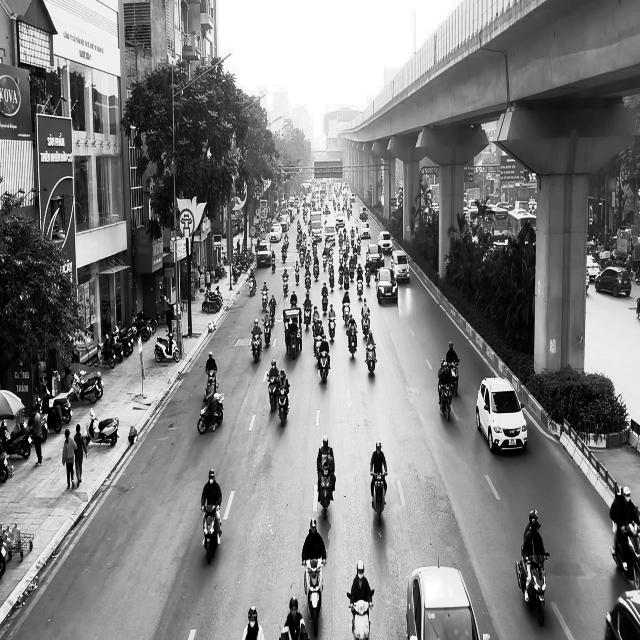car: (406, 564, 490, 640), (476, 376, 528, 454), (594, 265, 632, 297), (374, 268, 398, 304), (390, 250, 410, 283), (255, 242, 272, 267)
motorbike: (515, 546, 550, 626), (610, 520, 640, 590), (302, 556, 324, 636), (346, 590, 374, 640), (201, 503, 222, 564), (197, 390, 224, 434), (317, 464, 335, 520), (370, 471, 387, 525), (154, 329, 180, 363), (263, 372, 279, 413), (438, 381, 452, 421), (277, 384, 290, 426), (317, 348, 330, 384), (448, 359, 460, 396), (364, 342, 377, 374), (250, 330, 262, 363), (346, 326, 357, 358), (262, 317, 271, 346), (327, 314, 336, 342), (282, 274, 289, 297), (248, 276, 256, 296)
